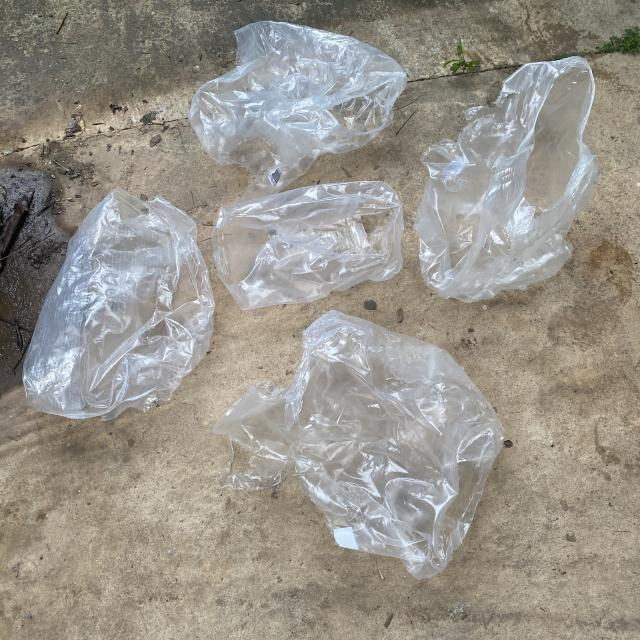Single-layer Plastic: (214, 311, 504, 579), (415, 56, 599, 302), (22, 189, 215, 420), (189, 21, 406, 200), (211, 181, 404, 310)
